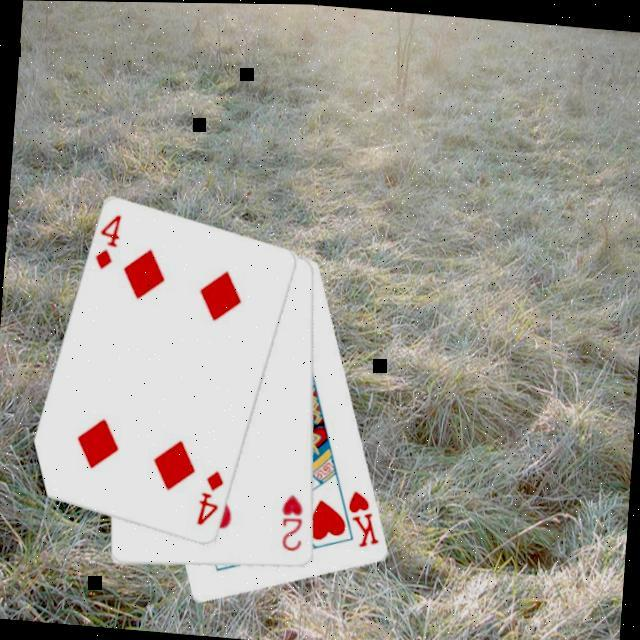2H: (274, 487, 306, 552)
4D: (191, 463, 226, 527), (89, 208, 123, 272)
KH: (340, 483, 383, 549)
